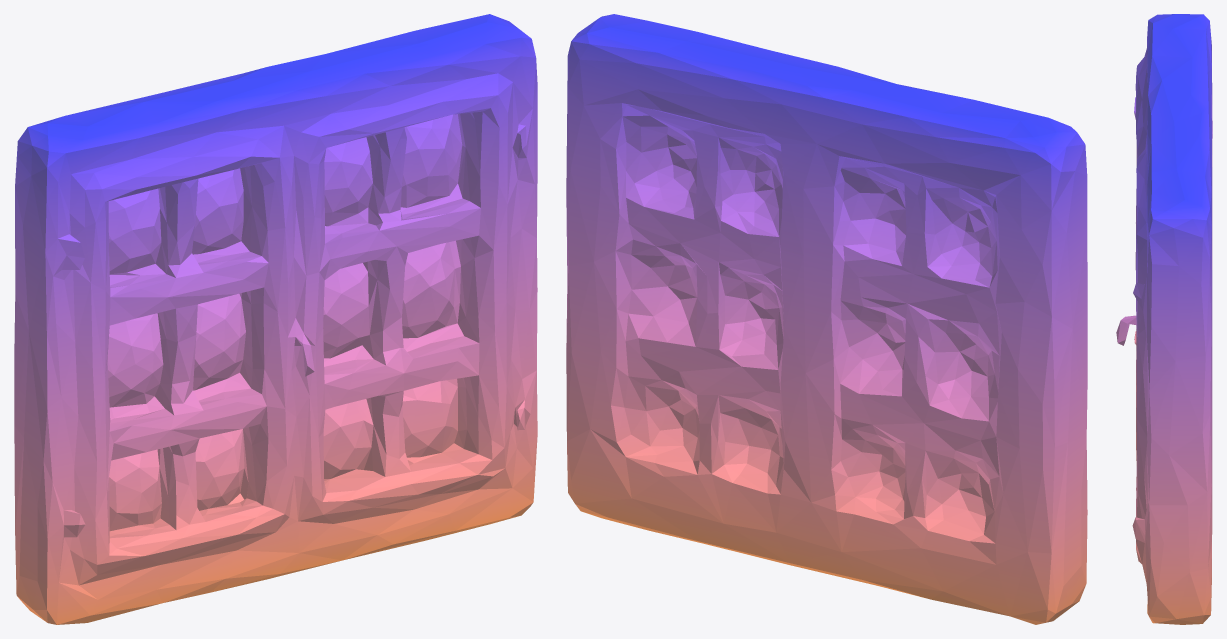
Rendered from 167_cyb_laser_gradient_fish_scales_2792_2026_10_03_4d88c5.glb.
3 renders of one model, left to right at view 1: azimuth 30°, elevation 25°; view 2: azimuth 150°, elevation 25°; view 3: azimuth 270°, elevation 25°, orthographic. The views are drawn at different scales.
Parts seen in each view (by area): view 1: geometry_0; view 2: geometry_0; view 3: geometry_0.
Part boxes in pixels (left/top/right/bottom): geometry_0: left=14, top=14, right=537, bottom=624; geometry_0: left=566, top=14, right=1087, bottom=624; geometry_0: left=1116, top=14, right=1212, bottom=624.
Bounding box in the file's own units: 1 × 0.9461 × 0.1966.
